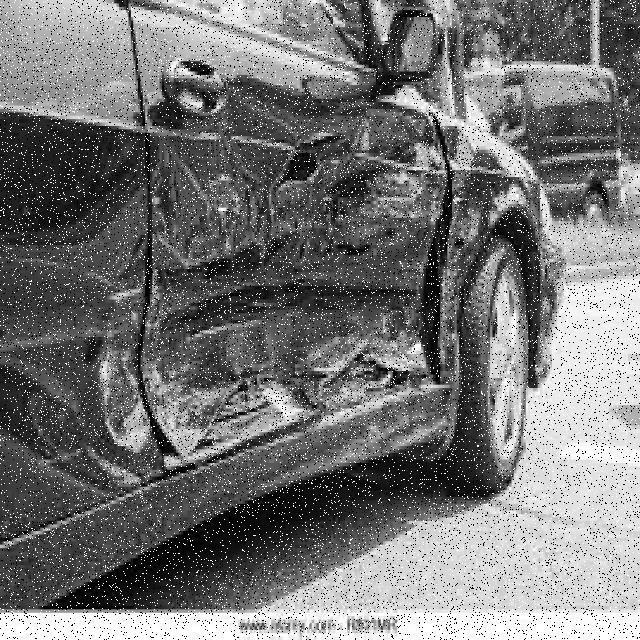Runningboard-Damage: (291, 391, 467, 469)
doorouter-dent: (145, 68, 452, 398), (1, 17, 144, 483)
